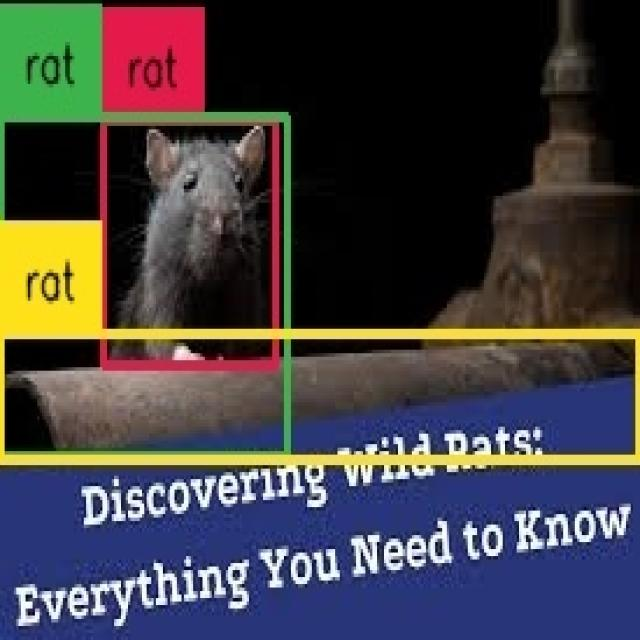rat: (0, 119, 286, 458), (0, 334, 640, 460), (105, 120, 277, 366)
